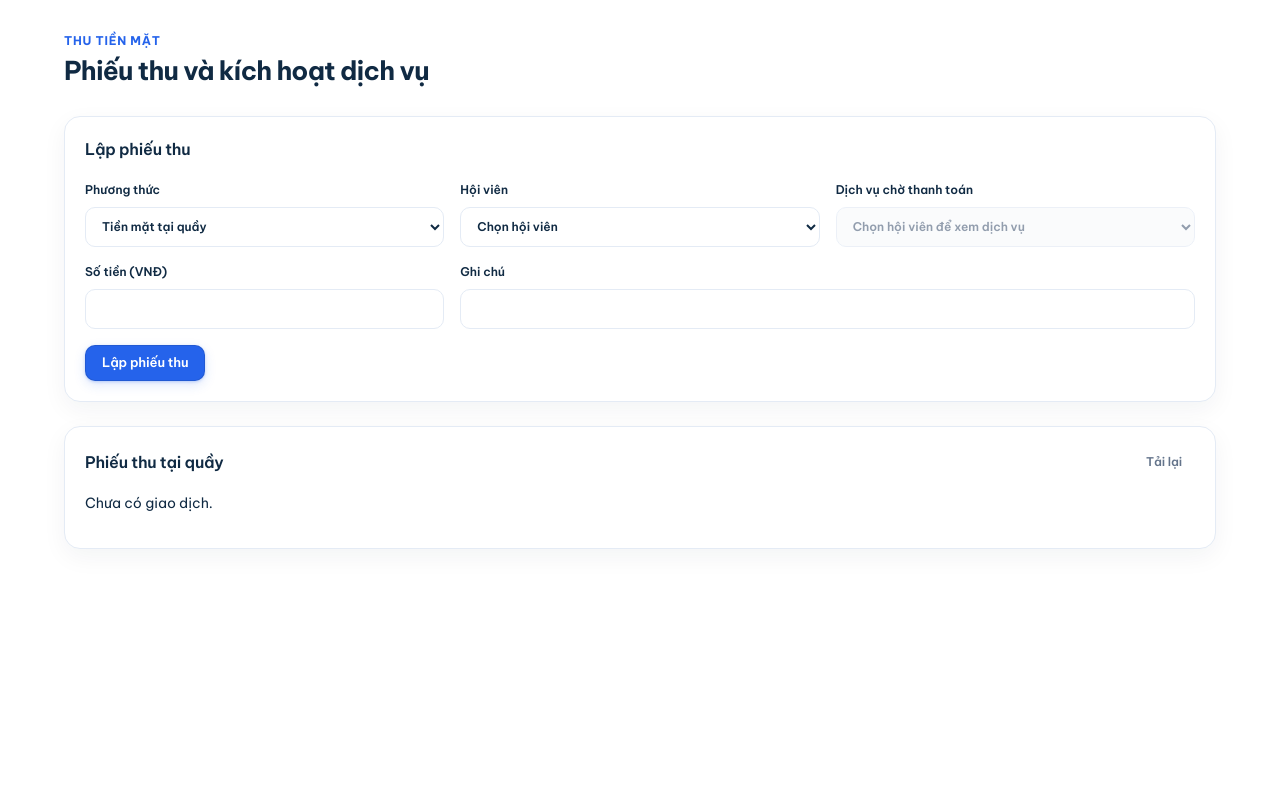
Test: PaymentsPage › blocks collection when services fail to load and allows retry
Select "Bình — HV-01" in the dropdown labelled "Hội viên" at point(640, 227), box 460,207 -> 820,247
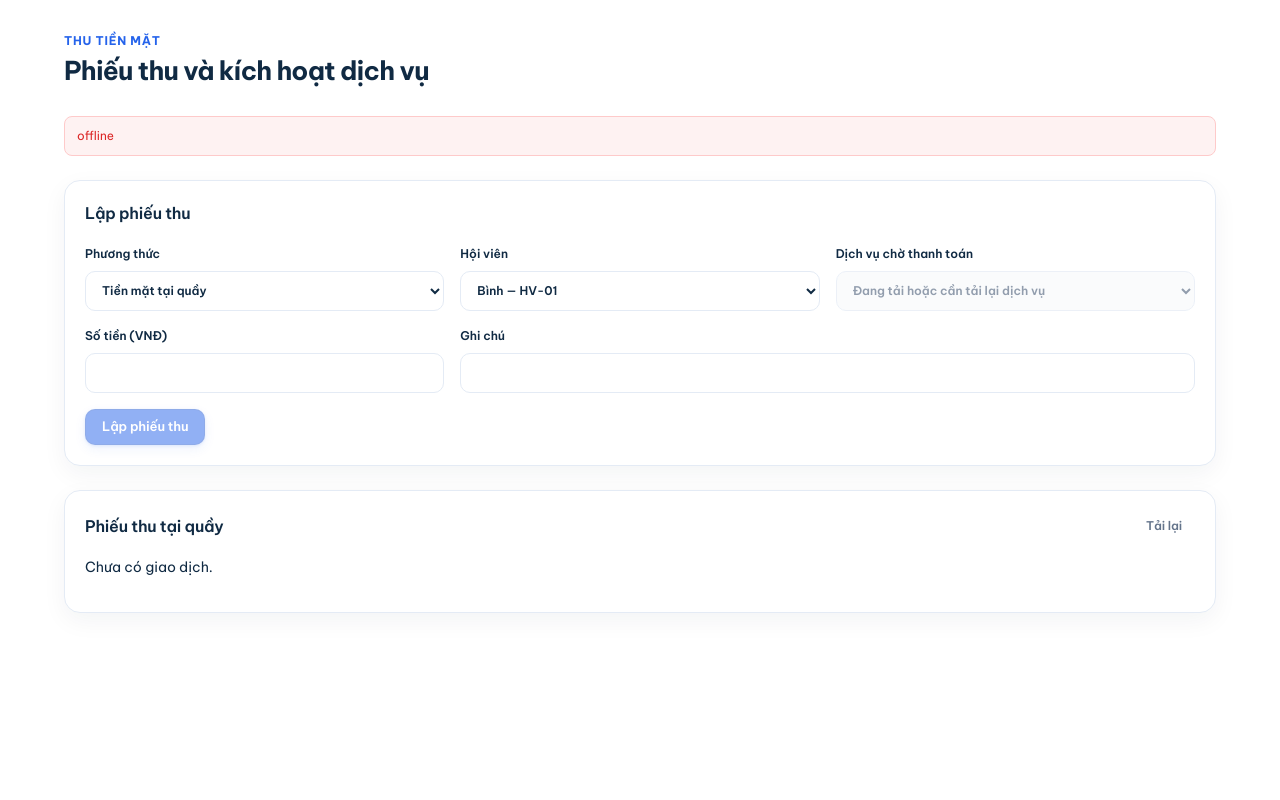
Now the message "offline" is shown, box 64,116 -> 1216,156
Now the button "Lập phiếu thu" is disabled, box 85,409 -> 205,445
Click the button "Tải lại" at point(1164, 526), box 1133,511 -> 1195,541
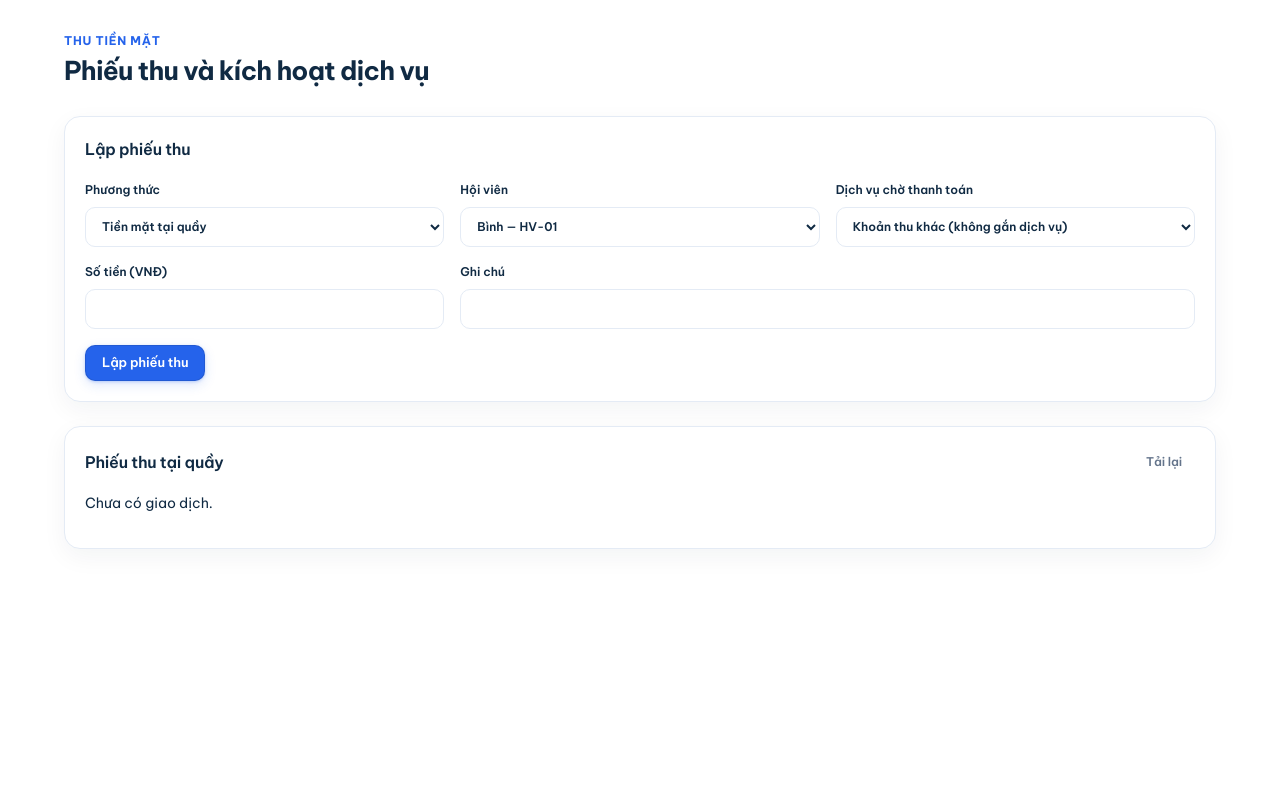
Now the button "Lập phiếu thu" is enabled, box 85,345 -> 205,381
